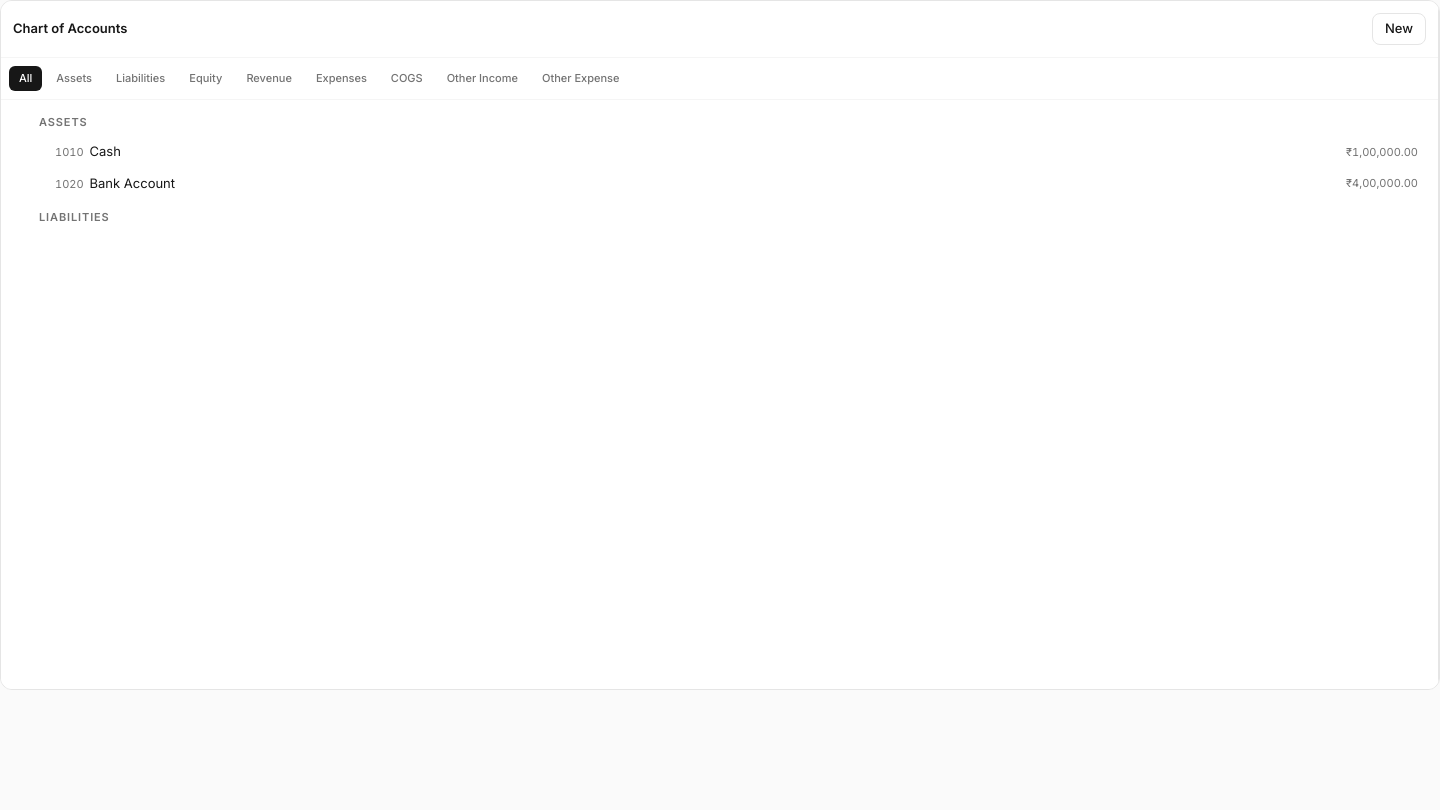
Test: ChartOfAccountsPage › shows detail panel when leaf account is selected
The image size is (1440, 810).
Expected: the text "Cash" is shown, [90, 143, 121, 159]
Click the text "Cash": click(88, 151) [55, 143, 121, 159]
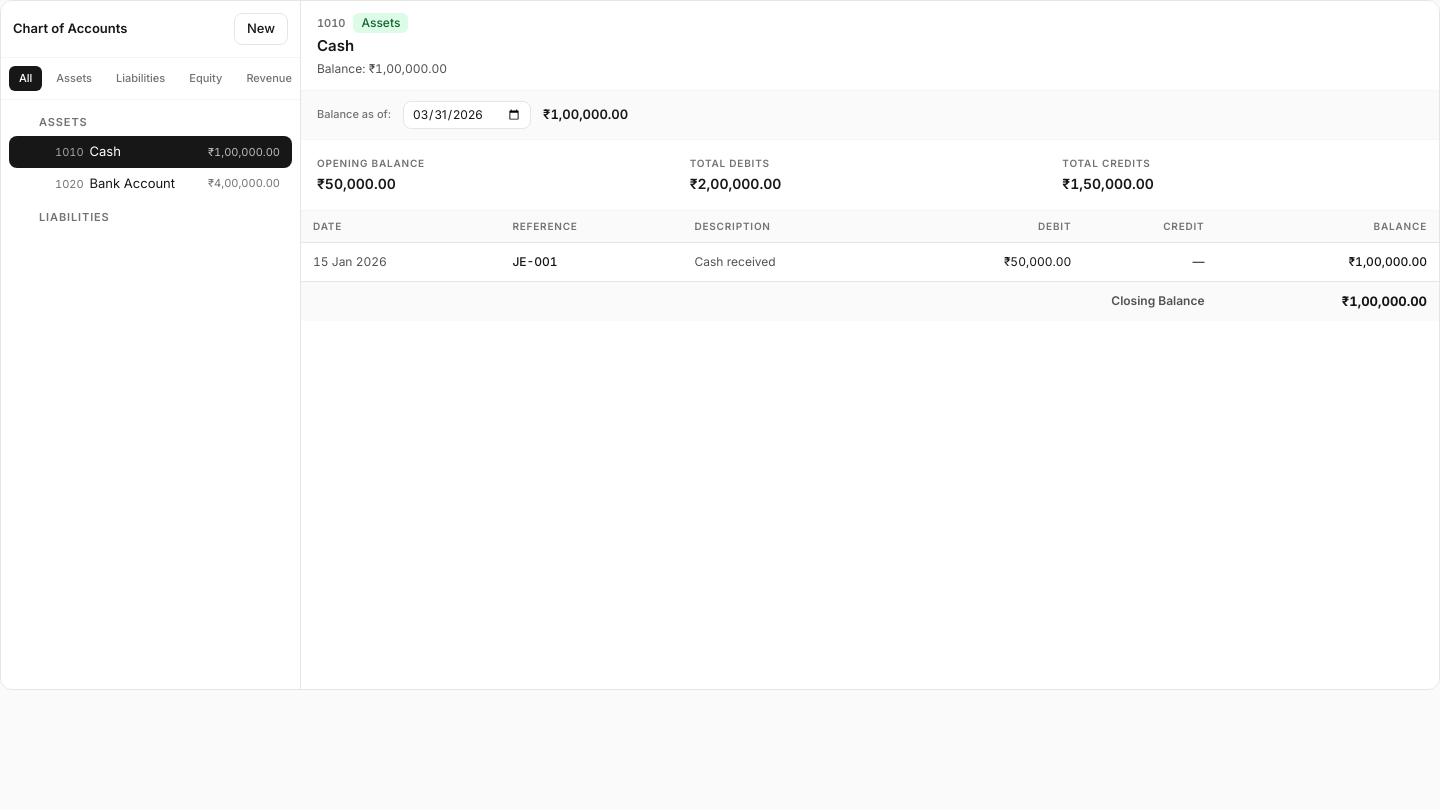
Expected: the text "Cash" is shown, [90, 143, 121, 159]
Result: the text "Balance as of:" is shown at [317, 106, 391, 123]
